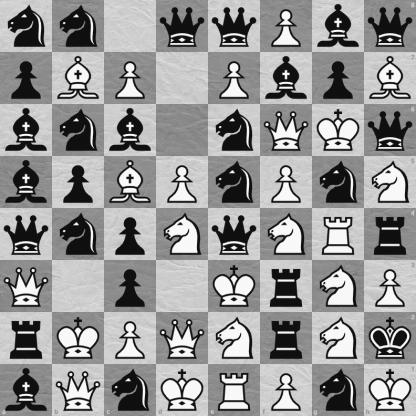B: (364, 52, 416, 104), (53, 53, 104, 104), (105, 157, 156, 208)
K: (156, 364, 209, 416), (364, 364, 416, 416), (53, 313, 104, 364), (209, 261, 260, 312), (313, 105, 364, 156)
N: (364, 156, 416, 209), (157, 209, 208, 260), (209, 313, 260, 364), (261, 209, 312, 260), (313, 261, 364, 312), (313, 313, 364, 364)
P: (260, 364, 312, 416), (364, 260, 416, 312), (105, 53, 156, 104), (105, 313, 156, 364), (157, 157, 208, 208), (209, 53, 260, 104), (261, 1, 312, 52), (261, 157, 312, 208)
Q: (52, 364, 104, 416), (1, 261, 52, 312), (157, 313, 208, 364), (261, 105, 312, 156)
R: (209, 364, 260, 416), (313, 209, 364, 260)
b: (0, 364, 52, 416), (1, 105, 52, 156), (1, 157, 52, 208), (105, 105, 156, 156), (261, 53, 312, 104), (313, 1, 364, 52)
board: (0, 0, 415, 415)
k: (364, 312, 416, 364)
n: (104, 364, 156, 416), (312, 364, 364, 416), (1, 1, 52, 52), (53, 1, 104, 52), (53, 105, 104, 156), (53, 209, 104, 260), (209, 105, 260, 156), (209, 157, 260, 208), (313, 157, 364, 208)
p: (1, 53, 52, 104), (53, 157, 104, 208), (105, 209, 156, 260), (105, 261, 156, 312), (313, 53, 364, 104)
q: (364, 0, 416, 52), (364, 104, 416, 156), (1, 209, 52, 260), (157, 1, 208, 52), (209, 1, 260, 52), (209, 209, 260, 260)
r: (364, 209, 416, 260), (1, 313, 52, 364), (261, 261, 312, 312), (261, 313, 312, 364)
